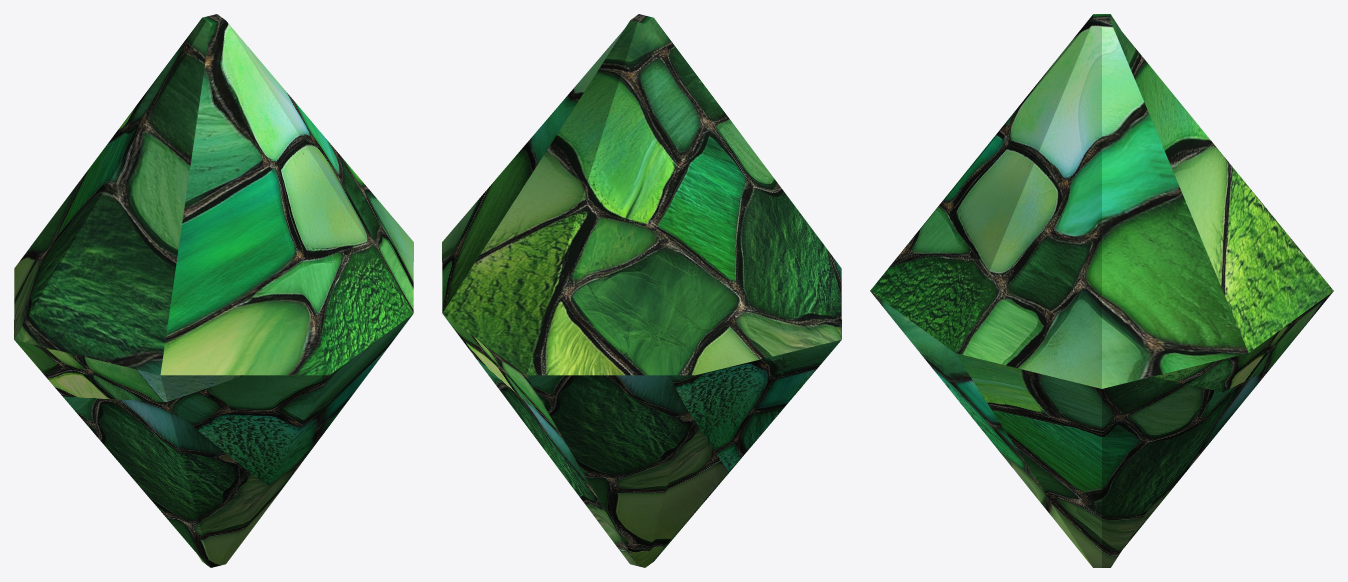
Rendered from gemstone2Green.glb.
3 renders of one model, left to right at view 1: azimuth 30°, elevation 25°; view 2: azimuth 150°, elevation 25°; view 3: azimuth 270°, elevation 25°, orthographic.
Visible parts, largest first — view 1: gemstone1; view 2: gemstone1; view 3: gemstone1.
Boxes of the visible parts, x1,y1,x2,y2 form: gemstone1: (14, 14, 413, 567); gemstone1: (442, 14, 841, 567); gemstone1: (870, 14, 1333, 567).
Size of the model in its own units: 1 by 1.3 by 1.
1 material, 1 textured.
